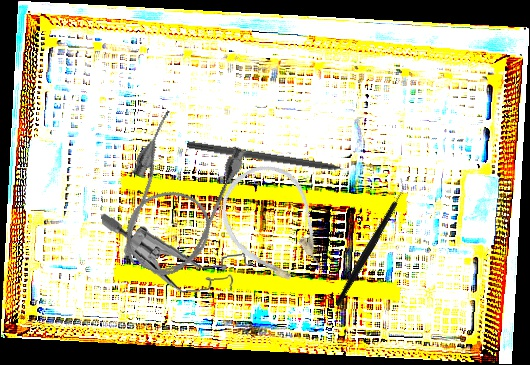Cannula: (100, 106, 251, 288), (205, 151, 343, 302)
Chopper: (300, 176, 439, 308)
Hook Surgical: (186, 140, 362, 178)
Speculum: (101, 202, 253, 302)
